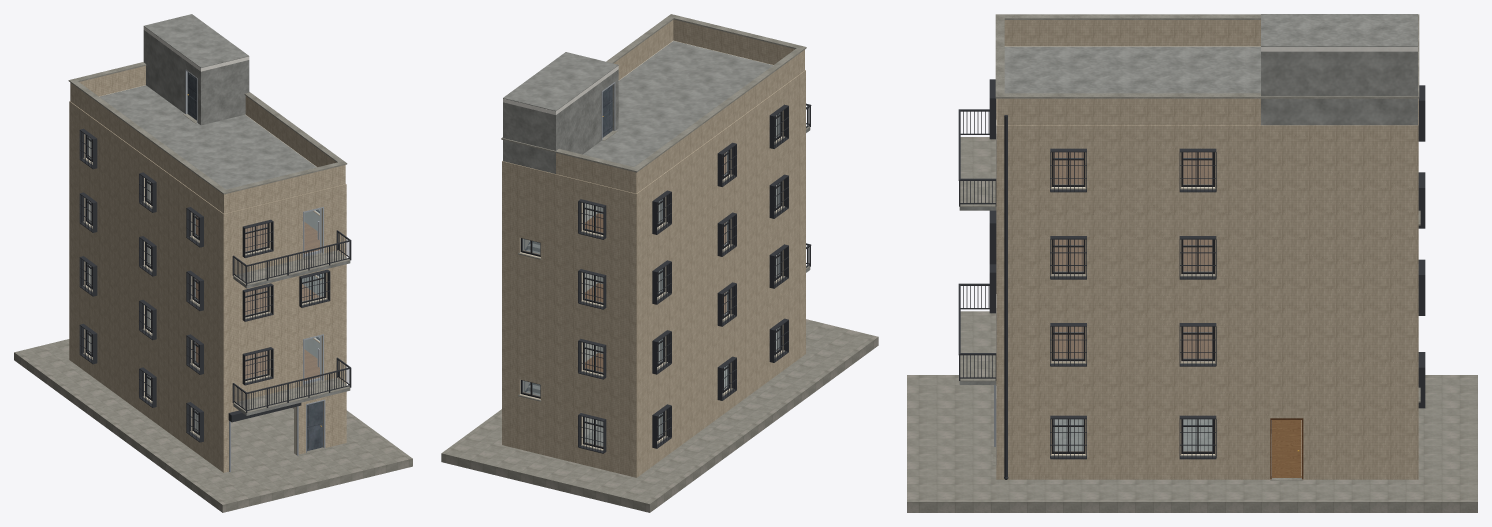
The model's file is b_tw_townhouse.gltf.
3 renders of one model, left to right at view 1: azimuth 30°, elevation 25°; view 2: azimuth 150°, elevation 25°; view 3: azimuth 270°, elevation 25°, orthographic. The views are drawn at different scales.
Visible parts, largest first — view 1: S_tw_townhouse, D_tw_townhouse_F4_S1_Door0, D_tw_townhouse_F2_S1_Door0, D_tw_townhouse_F1_S1_Door0; view 2: S_tw_townhouse, D_tw_townhouse_PH_W0_Door0; view 3: S_tw_townhouse, D_tw_townhouse_F1_E2_Door0.
Boxes of the visible parts, left/top/right/bottom form: S_tw_townhouse: left=14, top=14, right=412, bottom=512; D_tw_townhouse_F4_S1_Door0: left=304, top=208, right=321, bottom=256; D_tw_townhouse_F2_S1_Door0: left=304, top=336, right=321, bottom=383; D_tw_townhouse_F1_S1_Door0: left=307, top=401, right=322, bottom=450; S_tw_townhouse: left=441, top=14, right=878, bottom=512; D_tw_townhouse_PH_W0_Door0: left=602, top=85, right=612, bottom=137; S_tw_townhouse: left=907, top=14, right=1477, bottom=512; D_tw_townhouse_F1_E2_Door0: left=1272, top=420, right=1301, bottom=477.
Size of the model in its own units: 10 by 16.3 by 19.
20 materials, 11 textured.
